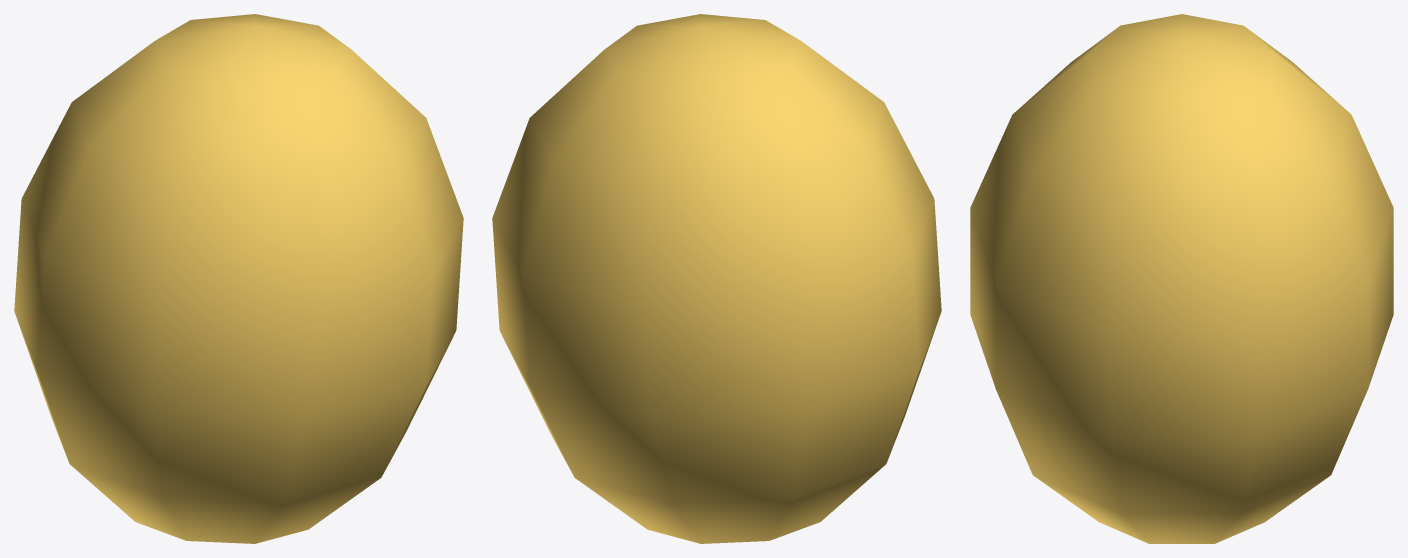
File: grano-choclo-tierno.glb
3 renders of one model, left to right at view 1: azimuth 30°, elevation 25°; view 2: azimuth 150°, elevation 25°; view 3: azimuth 270°, elevation 25°, orthographic.
Visible parts, largest first — view 1: cuerpo; view 2: cuerpo; view 3: cuerpo.
Boxes of the visible parts, bbox=[...] form: cuerpo: bbox=[14, 14, 463, 543]; cuerpo: bbox=[492, 14, 941, 543]; cuerpo: bbox=[970, 14, 1393, 543].
Size of the model in its own units: 0.2314 by 0.2819 by 0.217.
